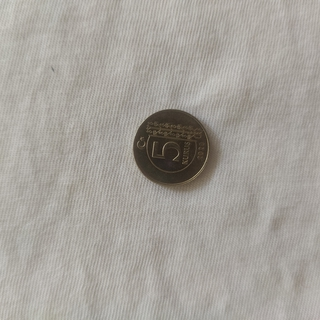5KURUS: (131, 107, 211, 186)
